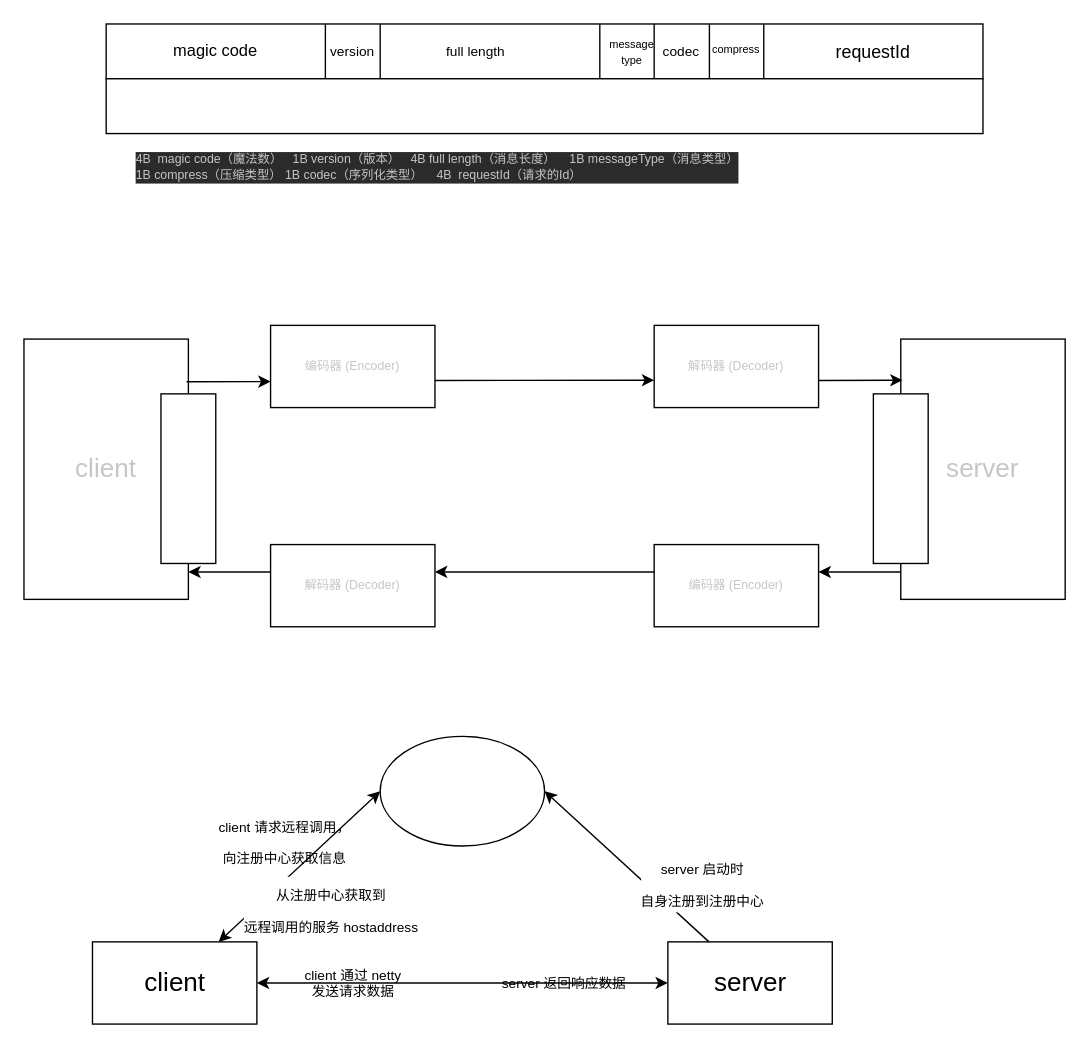
The diagram is 1089 pixels wide and 1048 high, and some of its shapes have lost their labels. The shapes that lost their labels are listed below. From the top down, each one's box as (x1, y1, x2, y2) in pixels, then its label:
(105, 77, 983, 134): Body (RpcRequtest / RpcResponse)
(160, 393, 216, 563): client Handler
(872, 393, 928, 563): server Handler
(379, 735, 545, 846): 注册中心
